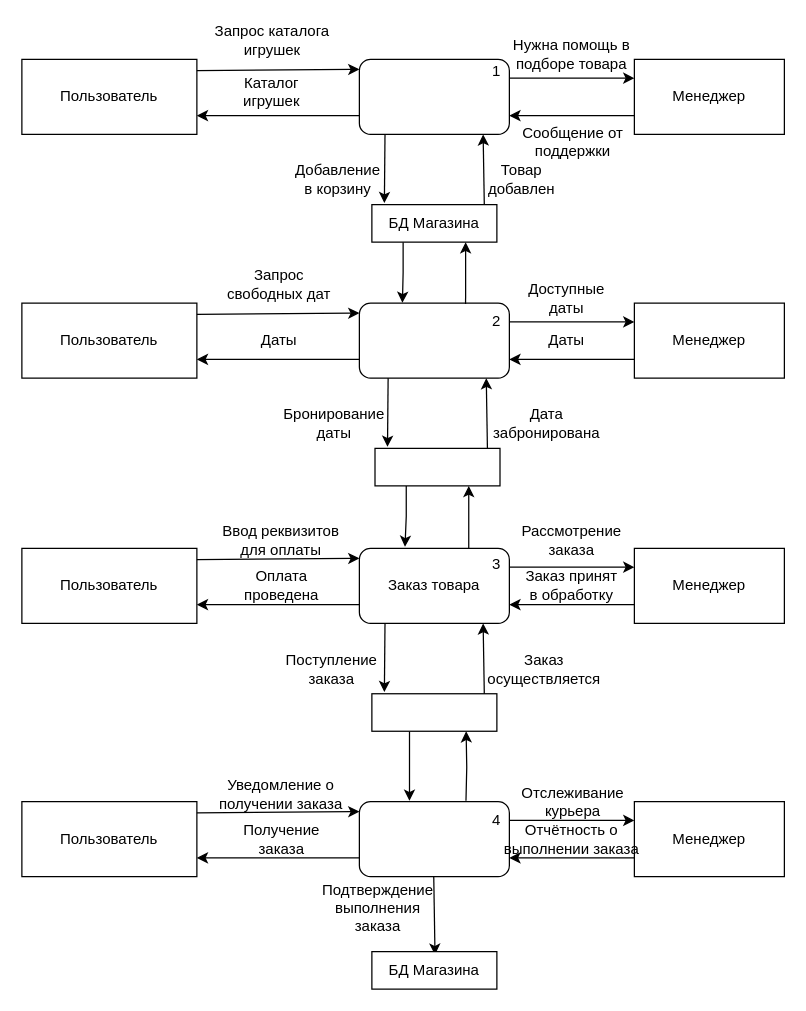
This 806x1011 diagram has some shape labels left out. The box of each missing label's shape, as (x1, y1, x2, y2) in pixels:
БД Даты: (374, 447, 500, 486)
БД Заказы: (371, 692, 497, 731)
Выбор даты доставки: (358, 302, 509, 378)
Отправление курьера: (358, 800, 509, 877)
Покупка товара в интернет магазине игрушек: (358, 58, 509, 134)
